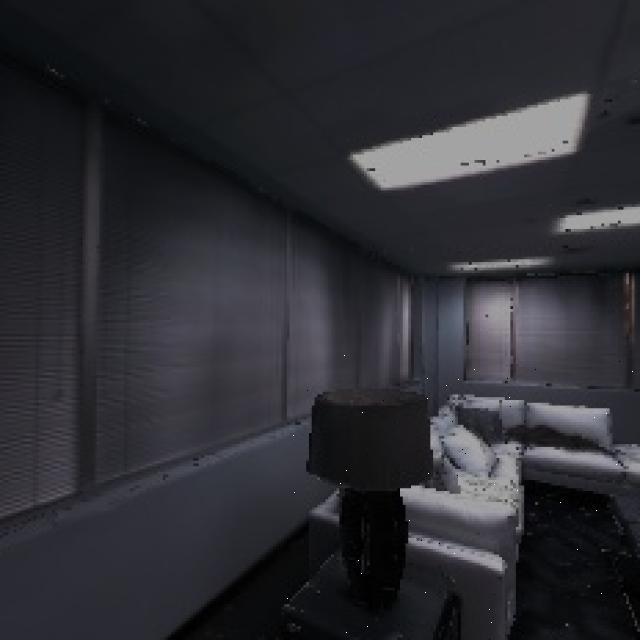sofa: (281, 353, 640, 640)
